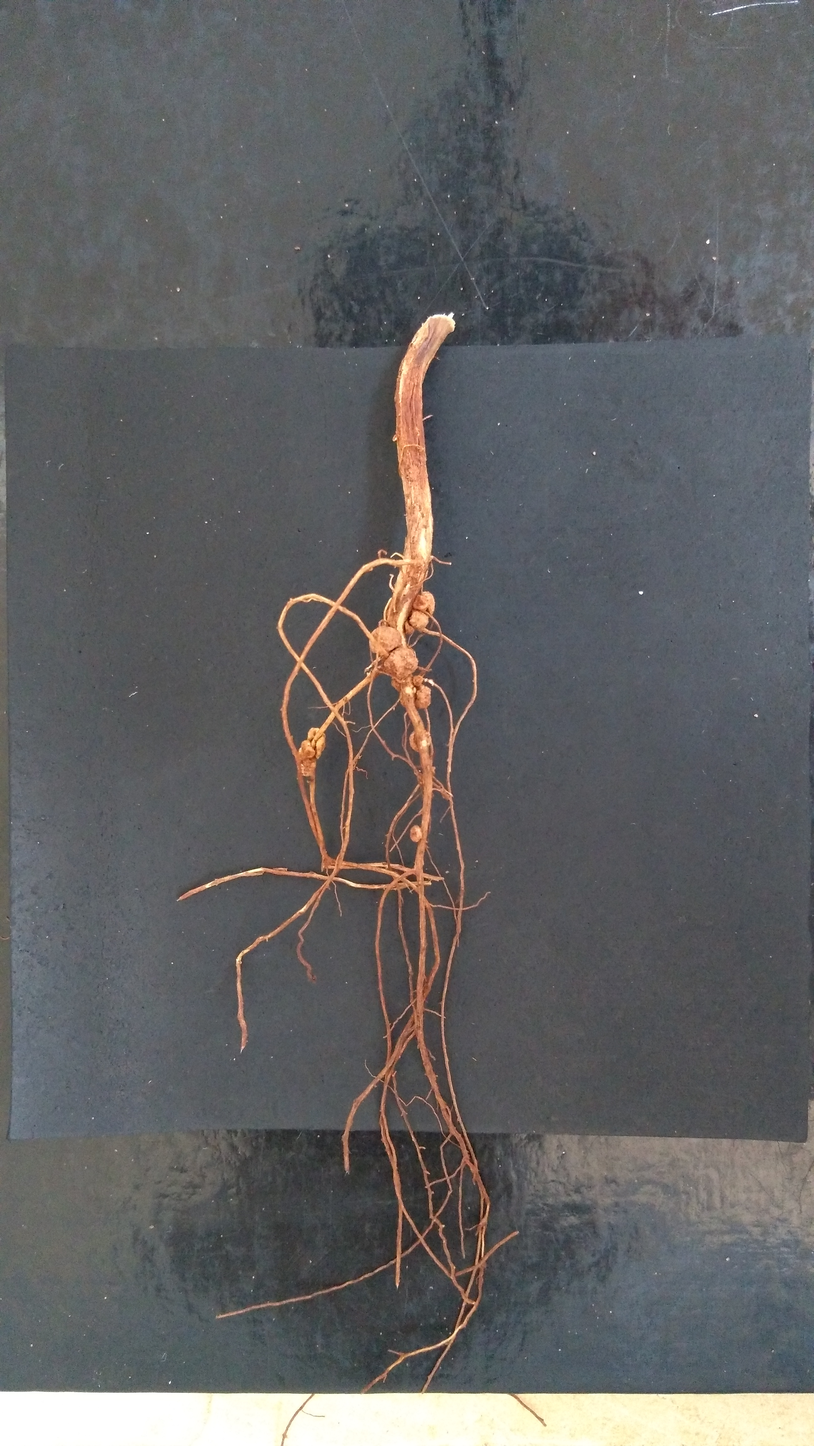nodule: (383, 646, 420, 680), (365, 624, 405, 655), (411, 589, 436, 619), (408, 727, 433, 754), (413, 683, 433, 711), (408, 608, 430, 633), (298, 759, 317, 779), (314, 731, 327, 760), (300, 739, 316, 758), (408, 824, 423, 844), (306, 725, 320, 741), (403, 620, 415, 636), (411, 675, 424, 687)
